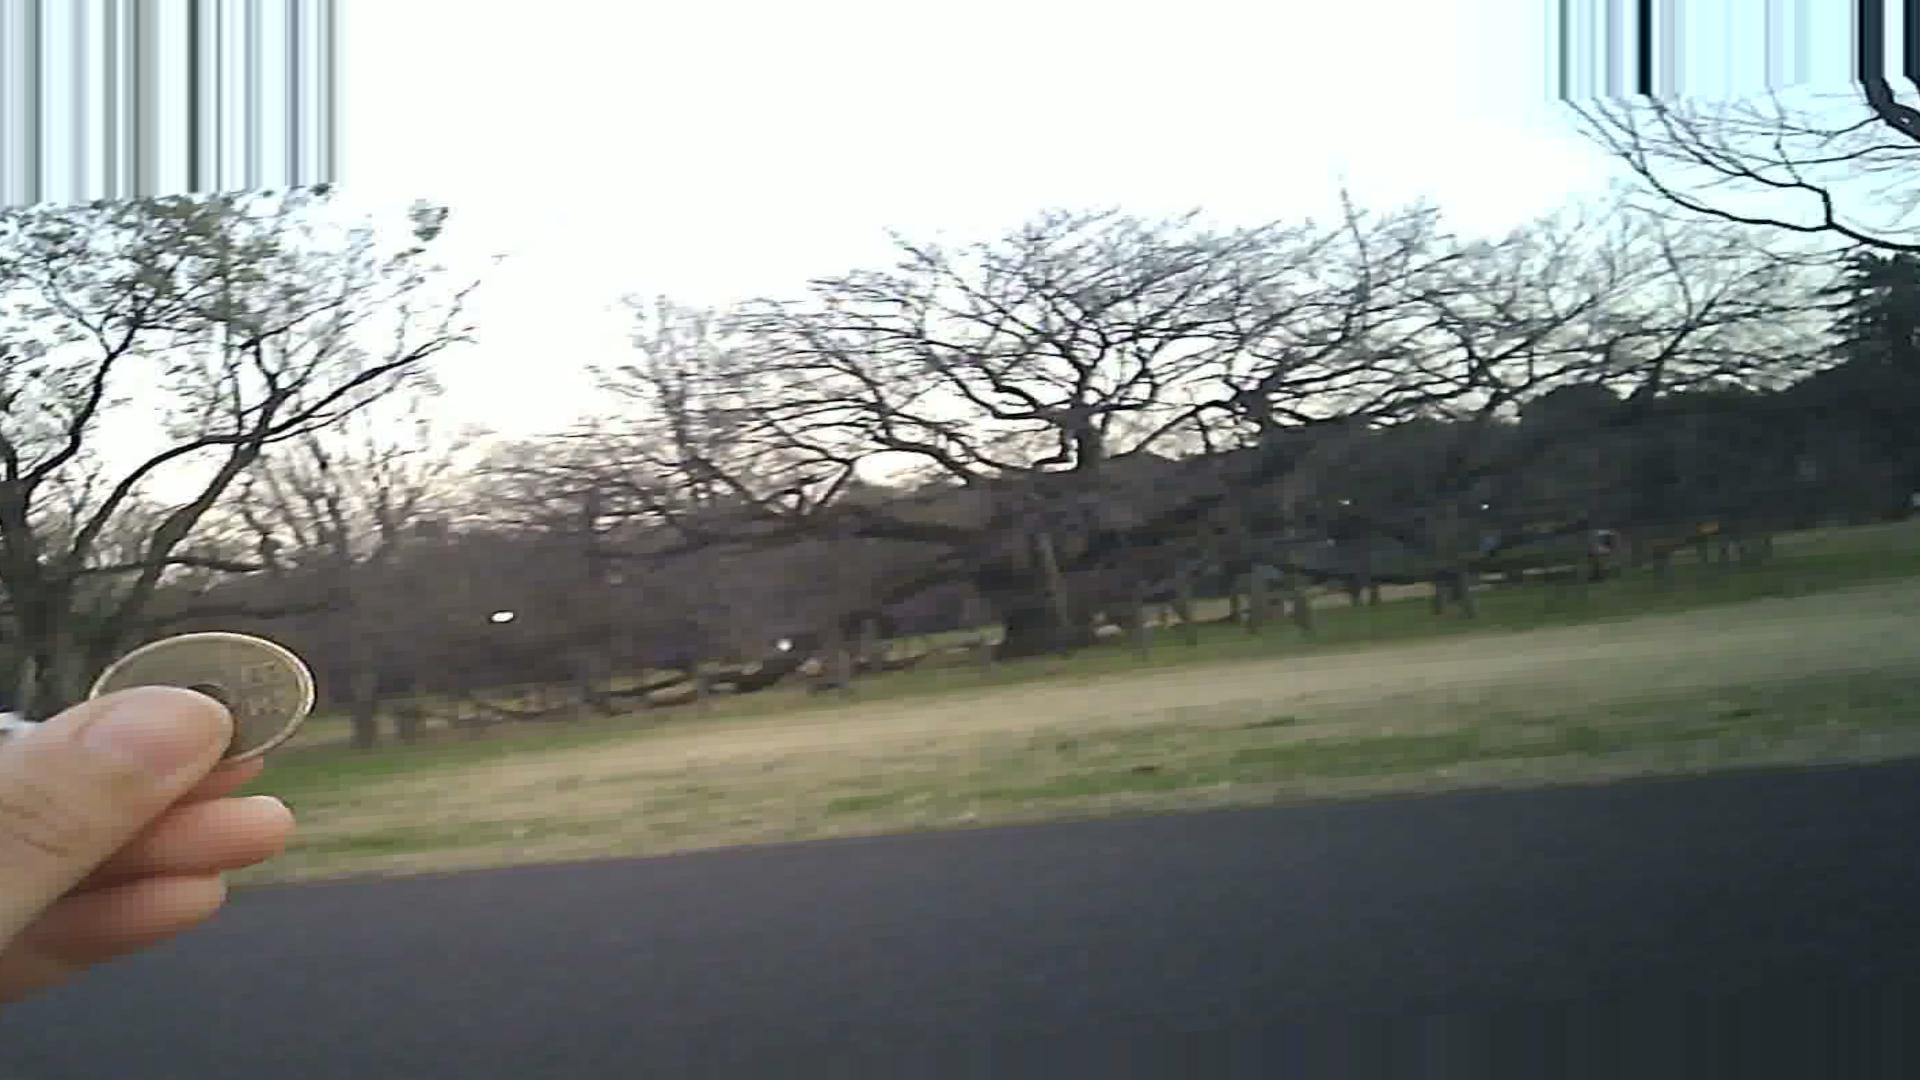5 Yen: (79, 625, 309, 771)
